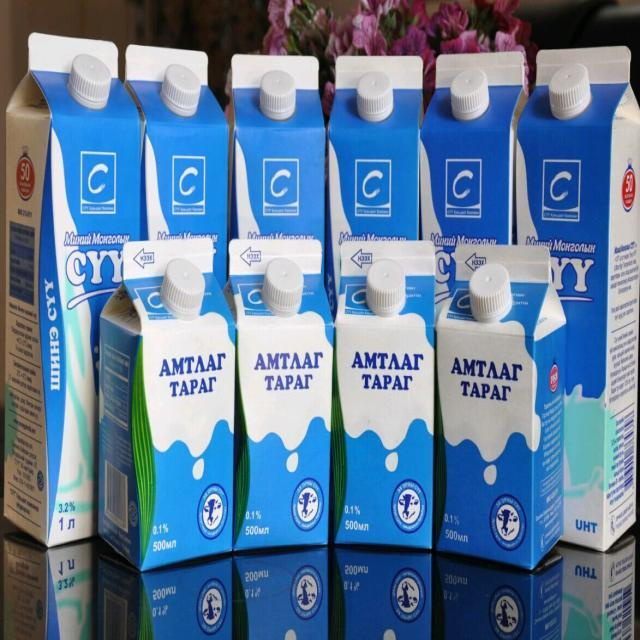Carton: (0, 18, 144, 546), (525, 42, 640, 563), (94, 228, 233, 570), (440, 226, 572, 586), (222, 227, 334, 560), (334, 232, 441, 564), (120, 32, 231, 245), (226, 32, 326, 258), (418, 50, 532, 246)
